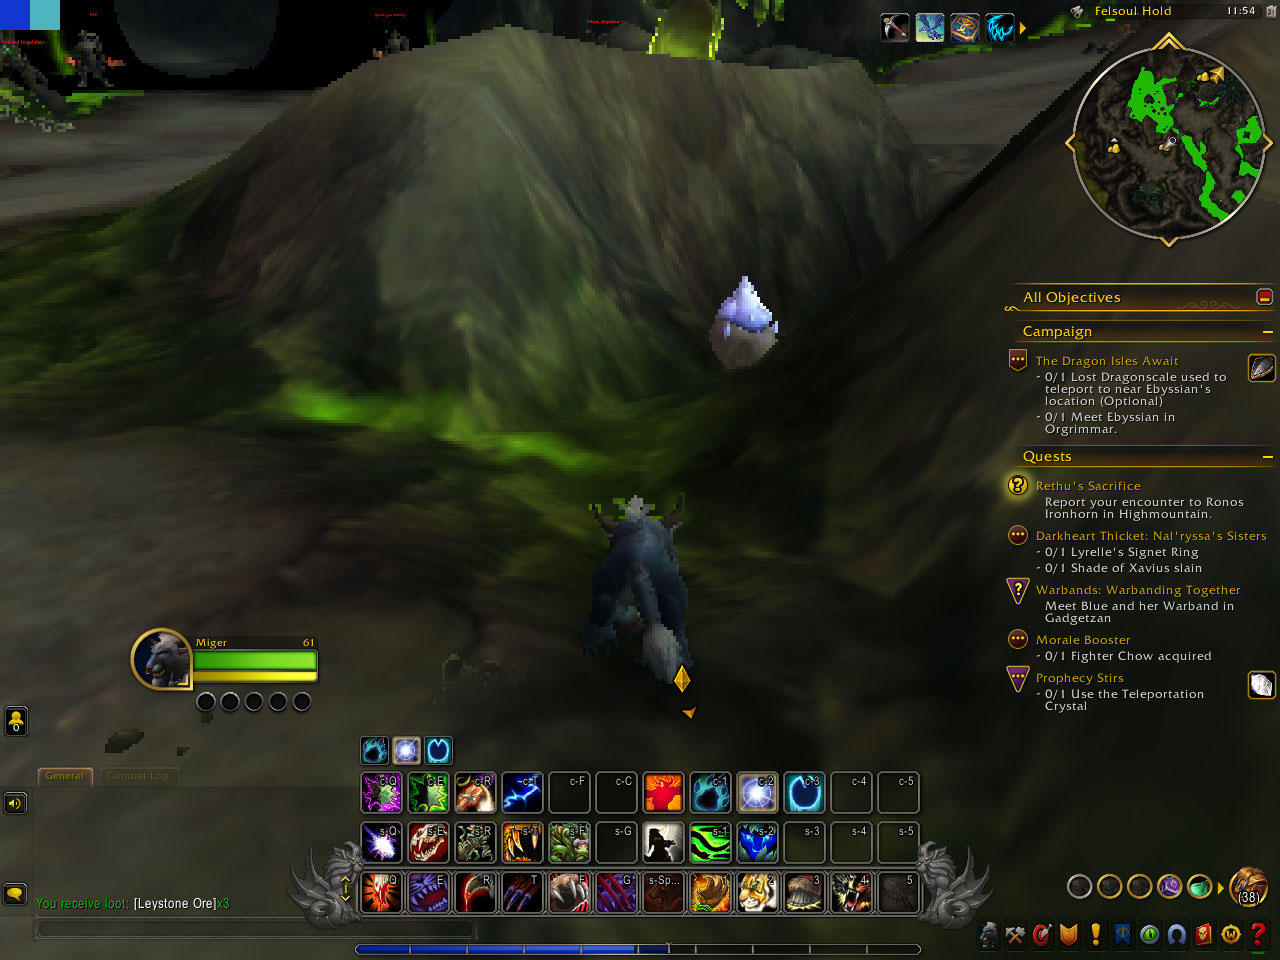ore: (706, 272, 782, 372)
